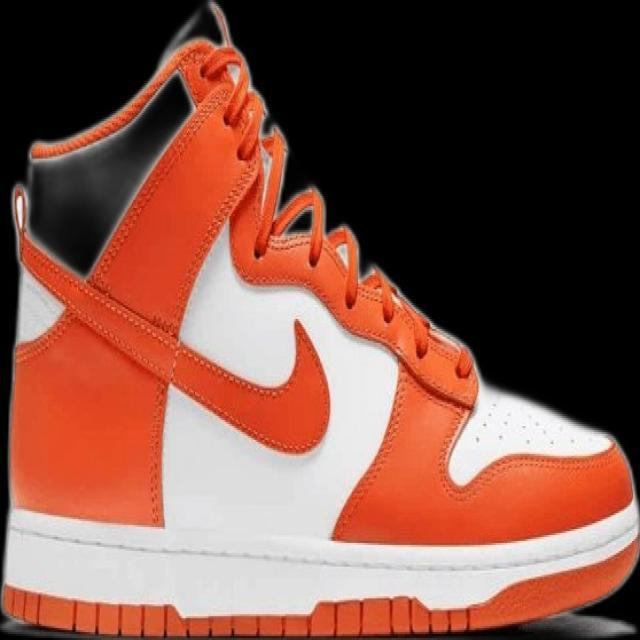J1_ShoeLogo: (0, 1, 639, 638)
J1_StitchPattern: (11, 183, 618, 505), (1, 499, 637, 636), (11, 189, 333, 457), (360, 262, 620, 488), (266, 183, 477, 403), (1, 585, 472, 638), (438, 385, 619, 495)
